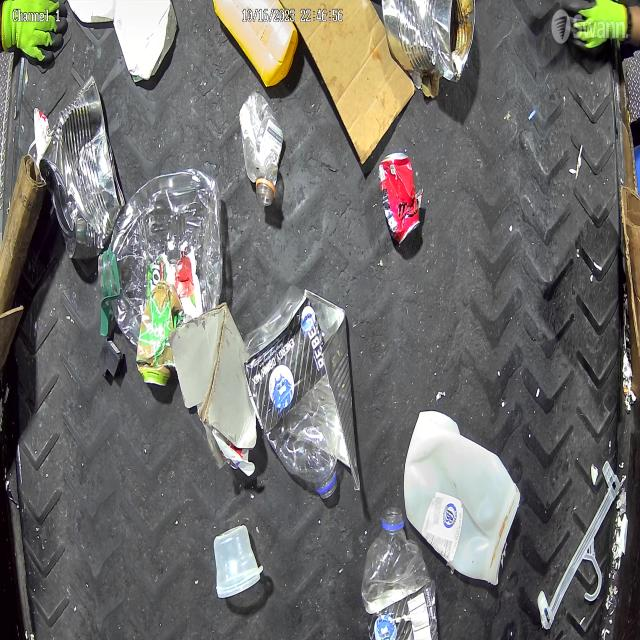can: (39, 74, 126, 260), (381, 0, 475, 81), (378, 152, 420, 246)
milk_jug: (404, 412, 522, 585)
non_white_jug: (212, 0, 299, 87)
plastic_bottle: (99, 169, 224, 348), (244, 284, 340, 498), (361, 506, 433, 638), (239, 93, 285, 205)
